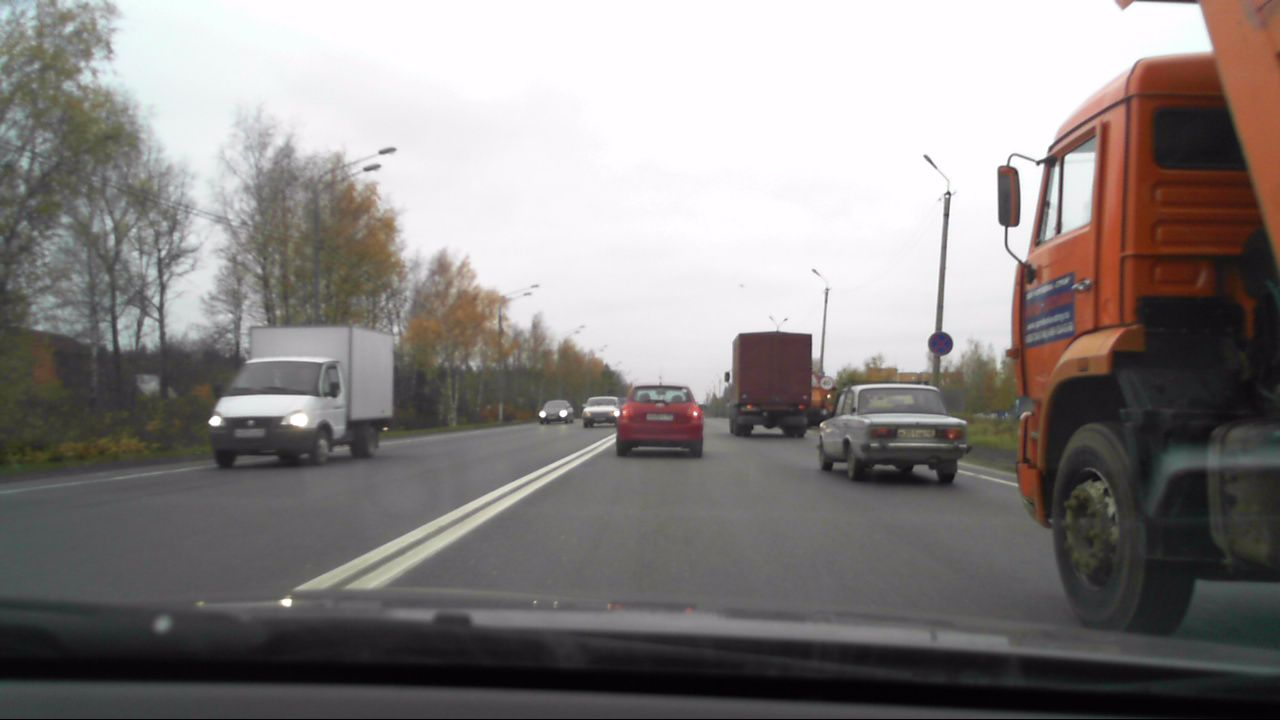No Parking: (929, 331, 952, 355)
